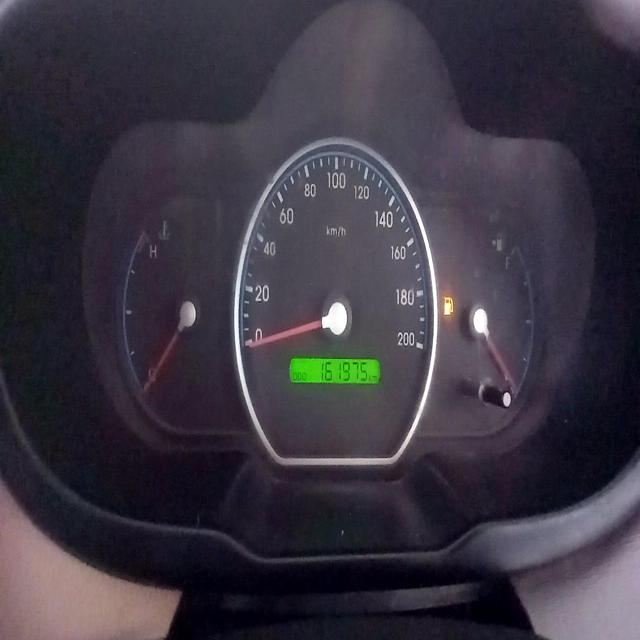odometer: (317, 358, 369, 386)
